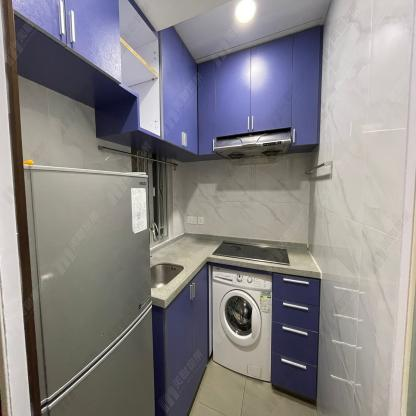Cupboard: (197, 25, 321, 155)
Exhaust Hood: (213, 128, 291, 166)
Fridge: (22, 165, 156, 416)
Sink: (150, 248, 206, 300)
Stove: (207, 240, 293, 269)
Washing Machine: (211, 267, 273, 385)
